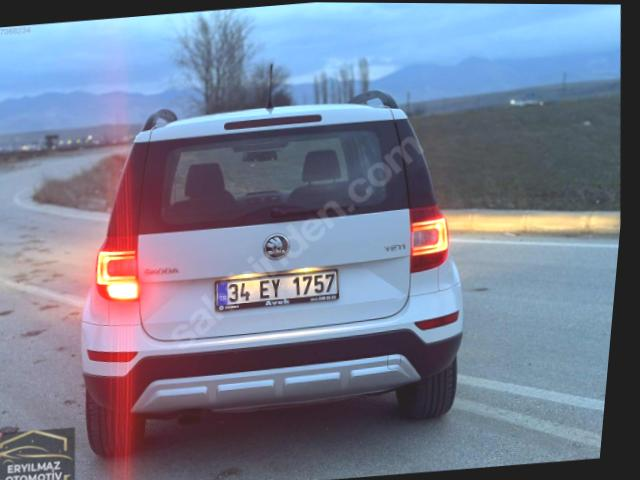plaka: (215, 269, 338, 310)
